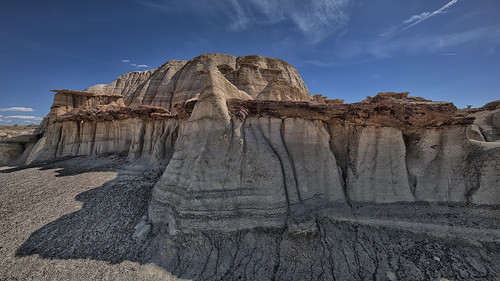mountain: (17, 37, 497, 252)
sky: (1, 1, 500, 97)
